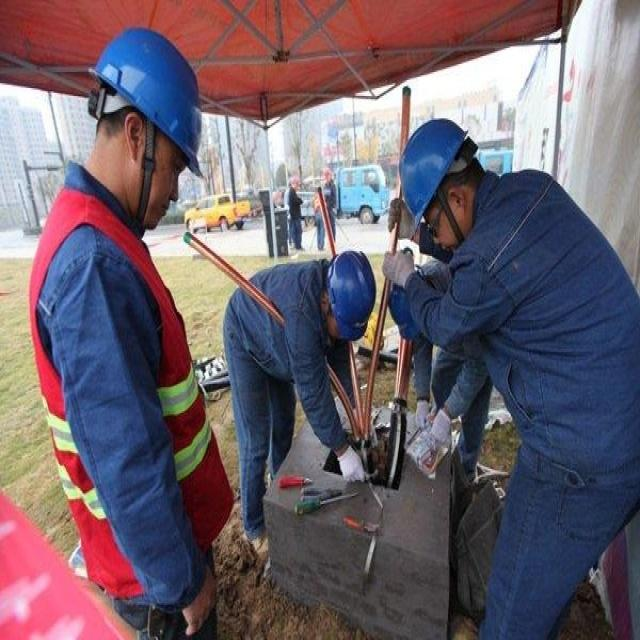helmet: (82, 32, 206, 307), (394, 152, 481, 340), (317, 327, 377, 457)
